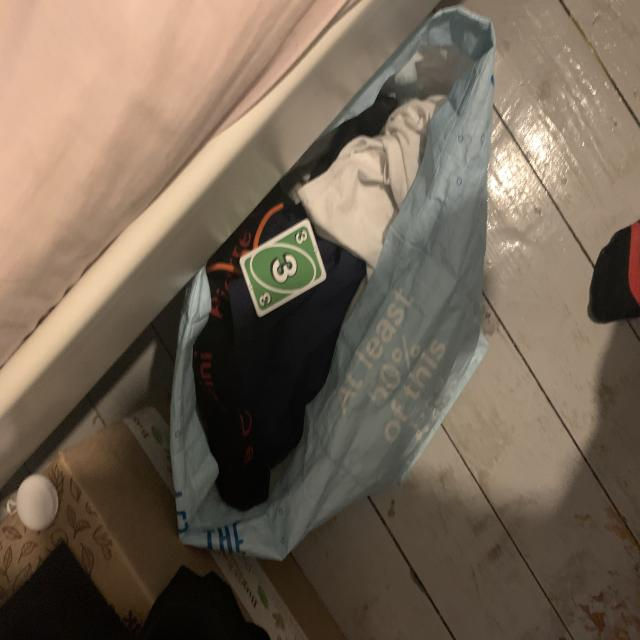lgreen-3: (292, 227, 310, 247)
